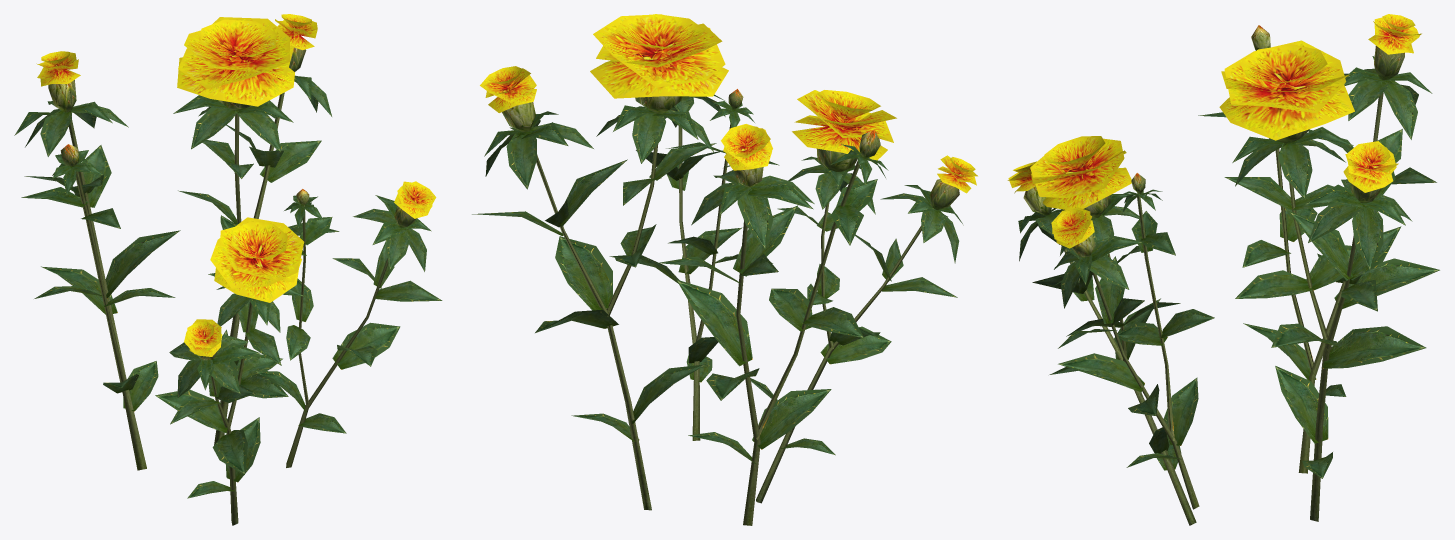
File: Safflower.FBX
The picture shows the model from 3 angles, left to right: view 1: azimuth 30°, elevation 25°; view 2: azimuth 150°, elevation 25°; view 3: azimuth 270°, elevation 25°; orthographic projection. The views are drawn at different scales.
Parts seen in each view (by area): view 1: Safflower, Safflower0, Safflower1, Safflower2; view 2: Safflower0, Safflower1, Safflower, Safflower2; view 3: Safflower0, Safflower2, Safflower1, Safflower.
Boxes of the visible parts, x1,y1,x2,y2 form: Safflower: (155, 217, 304, 525); Safflower0: (173, 14, 339, 445); Safflower1: (14, 51, 180, 470); Safflower2: (255, 181, 442, 467); Safflower0: (472, 14, 728, 510); Safflower1: (657, 124, 888, 525); Safflower: (750, 90, 977, 503); Safflower2: (609, 89, 779, 440); Safflower0: (1219, 40, 1426, 521); Safflower2: (1051, 173, 1214, 509); Safflower1: (1198, 14, 1439, 473); Safflower: (1007, 136, 1196, 525).
Bounding box in the file's own units: 41.96 × 55.64 × 44.62.
